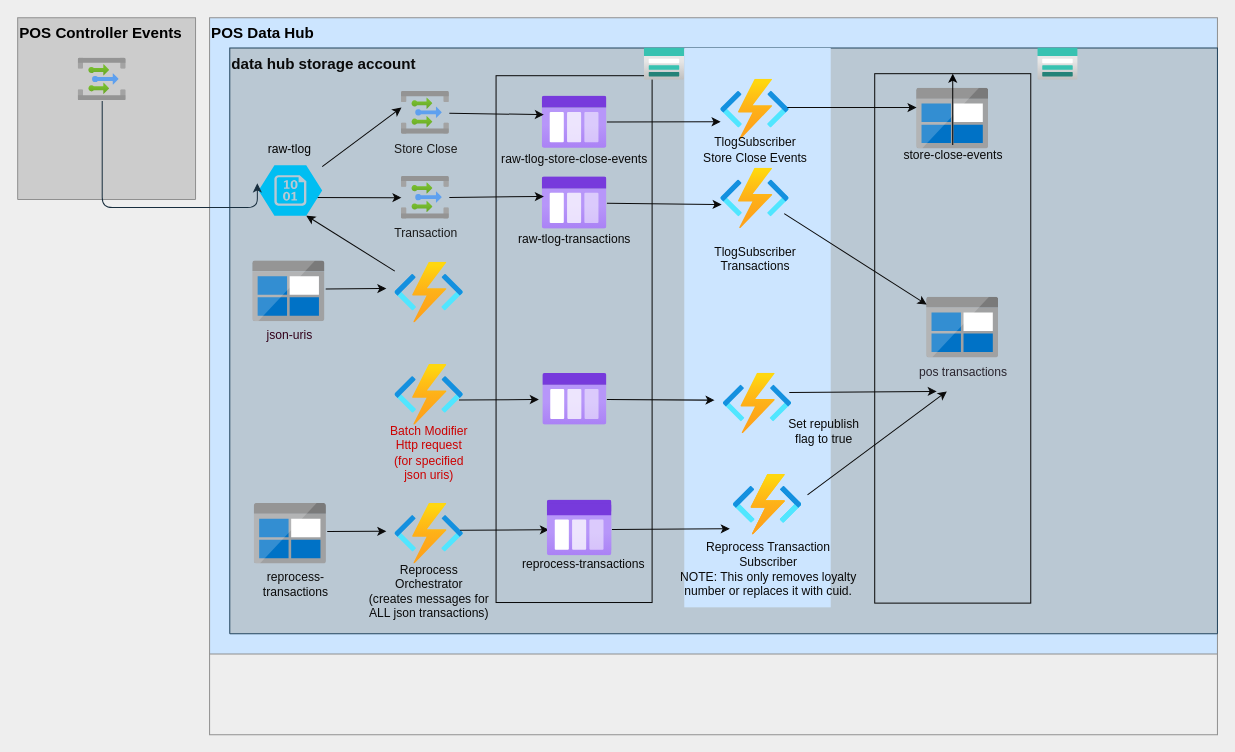
This 1235x752 diagram has some shape labels left out. Here are the shapes that lost their labels. From the top down, the centre of each, then its label:
(102,79): TLOG XML Capture: Store Close Transaction Exception
(428,292): Dsar
(574,399): batch-modifier
